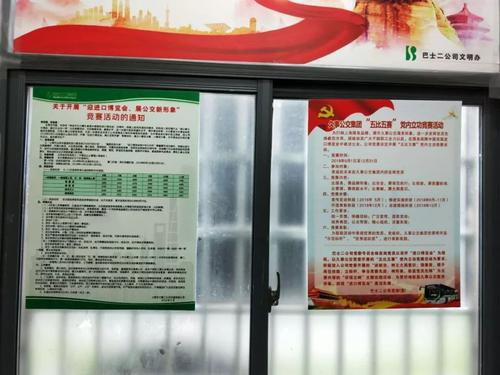bill: (21, 83, 199, 312), (306, 99, 462, 308)
